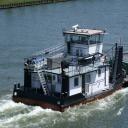tugboat: (12, 20, 128, 117)
